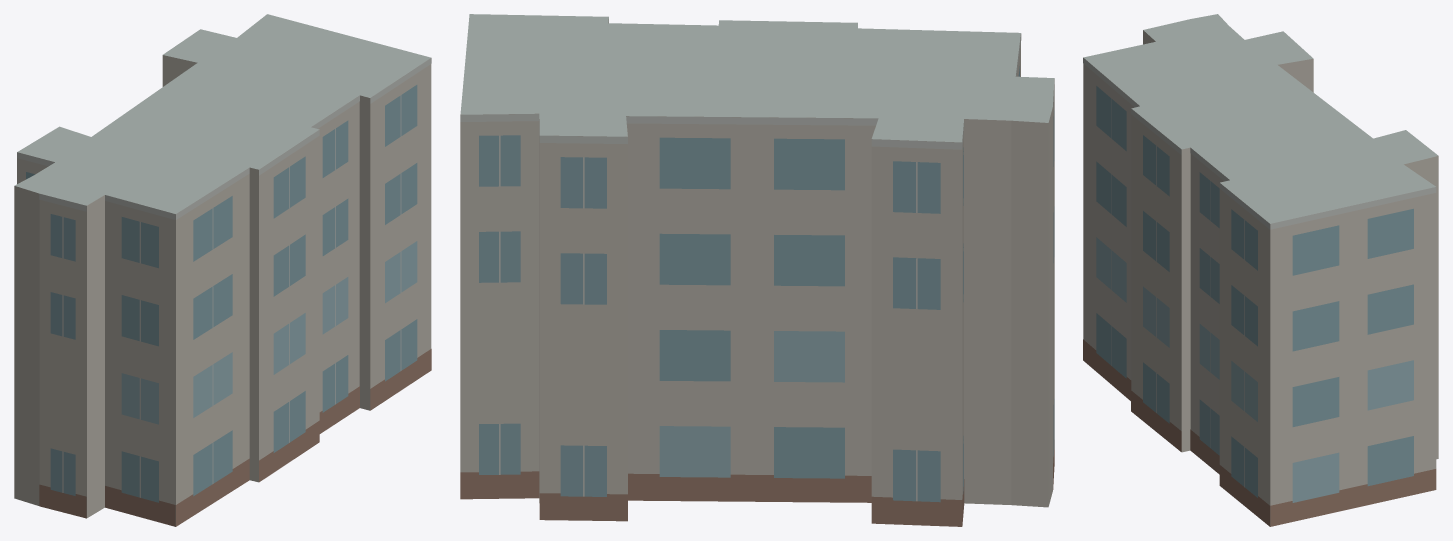
The model's file is survey-upis-32936134.glb.
The picture shows the model from 3 angles, left to right: view 1: azimuth 30°, elevation 25°; view 2: azimuth 150°, elevation 25°; view 3: azimuth 270°, elevation 25°; orthographic projection. The views are drawn at different scales.
Parts seen in each view (by area): view 1: survey-upis-32936134.tmp; view 2: survey-upis-32936134.tmp; view 3: survey-upis-32936134.tmp.
Boxes of the visible parts, x1,y1,x2,y2 form: survey-upis-32936134.tmp: (14, 14, 431, 526); survey-upis-32936134.tmp: (460, 14, 1054, 526); survey-upis-32936134.tmp: (1083, 14, 1438, 526).
Size of the model in its own units: 18.8 by 12.65 by 13.46.
